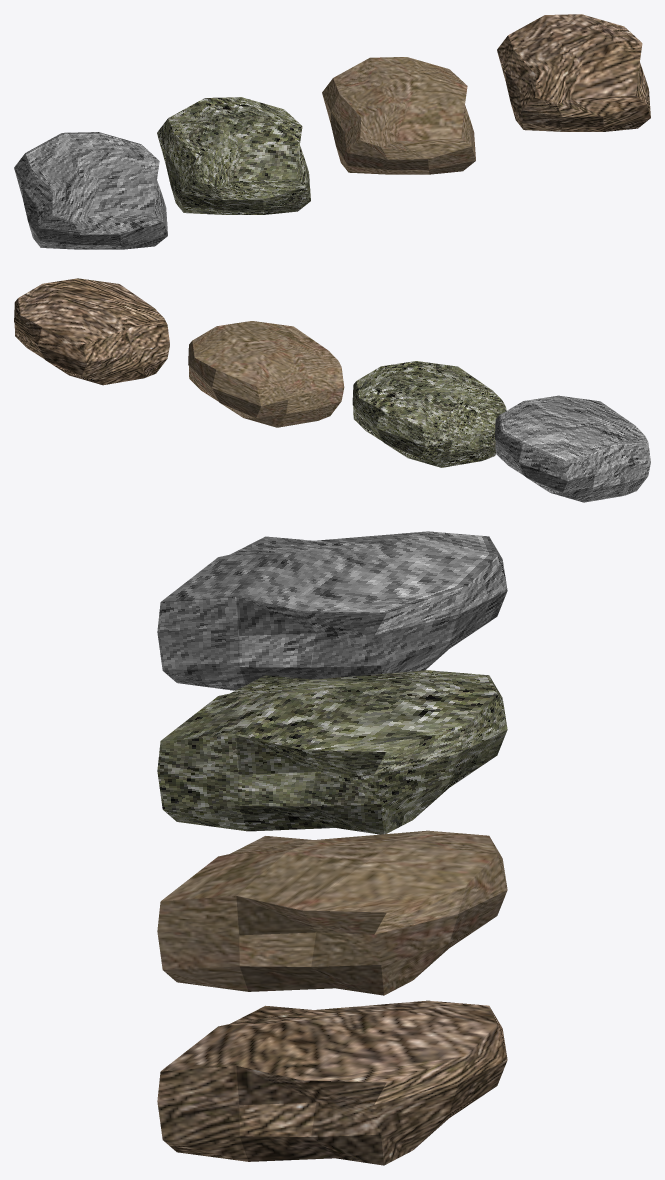
File: rocks.fbx
3 renders of one model, top to bottom at view 1: azimuth 30°, elevation 25°; view 2: azimuth 150°, elevation 25°; view 3: azimuth 270°, elevation 25°, orthographic. The views are drawn at different scales.
Visible parts, largest first — view 1: rock_dirt, rock, rock_brown, rock_moss; view 2: rock, rock_brown, rock_dirt, rock_moss; view 3: rock_moss, rock_dirt, rock_brown, rock.
Boxes of the visible parts, left/top/right/bottom form: rock_dirt: left=322, top=57, right=475, bottom=174; rock: left=14, top=132, right=167, bottom=249; rock_brown: left=497, top=14, right=650, bottom=131; rock_moss: left=157, top=97, right=310, bottom=214; rock: left=495, top=395, right=650, bottom=502; rock_brown: left=14, top=278, right=169, bottom=385; rock_dirt: left=188, top=321, right=344, bottom=427; rock_moss: left=352, top=361, right=506, bottom=467; rock_moss: left=157, top=670, right=507, bottom=834; rock_dirt: left=157, top=830, right=507, bottom=995; rock_brown: left=157, top=1000, right=507, bottom=1165; rock: left=157, top=531, right=507, bottom=690.
Size of the model in its own units: 1099 by 113 by 271.
Materials: 4 (4 with a texture image).
